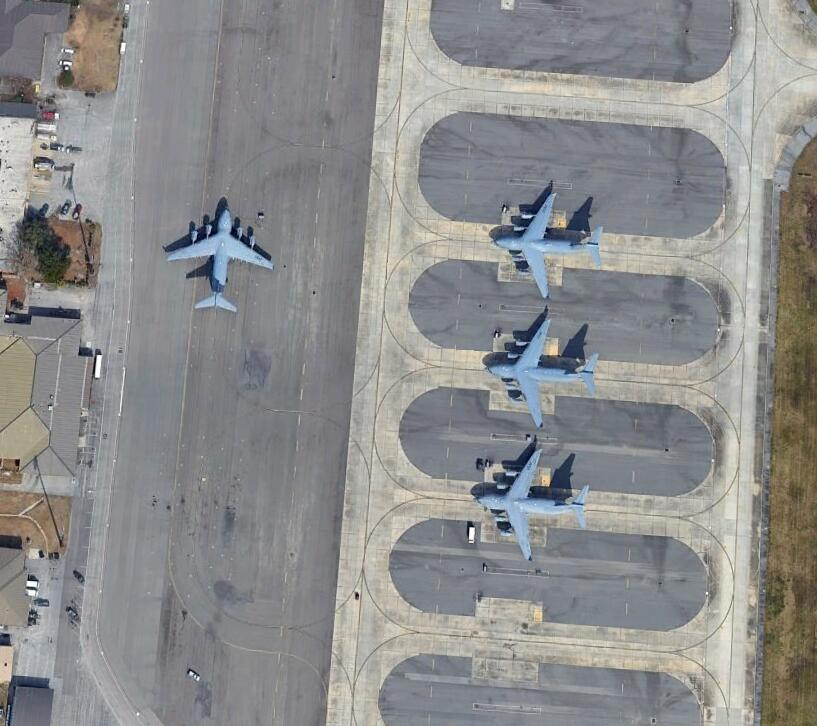A3: (475, 446, 588, 563), (493, 188, 605, 304), (487, 317, 598, 428), (167, 204, 278, 314)
